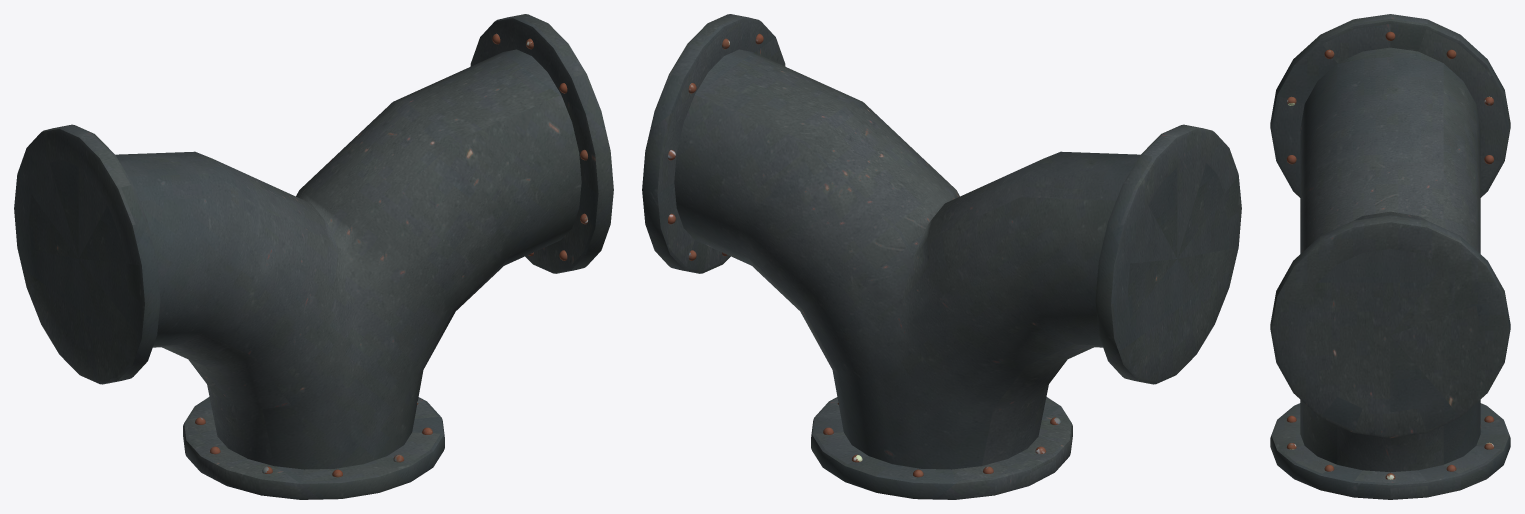
The model's file is Powerplant_Model_Environment_TPipeTextured.fbx.
3 views of the same model, side by side, from view 1: azimuth 30°, elevation 25°; view 2: azimuth 150°, elevation 25°; view 3: azimuth 270°, elevation 25° (orthographic). The views are drawn at different scales.
Parts seen in each view (by area): view 1: Pipe(90 degree001; view 2: Pipe(90 degree001; view 3: Pipe(90 degree001.
Part boxes in pixels (x1=…): Pipe(90 degree001: x1=14, y1=14, x2=613, y2=499; Pipe(90 degree001: x1=642, y1=14, x2=1241, y2=499; Pipe(90 degree001: x1=1270, y1=14, x2=1510, y2=499.
Bounding box in the file's own units: 98.74 × 73.44 × 47.97.
2 materials, 2 textured.
